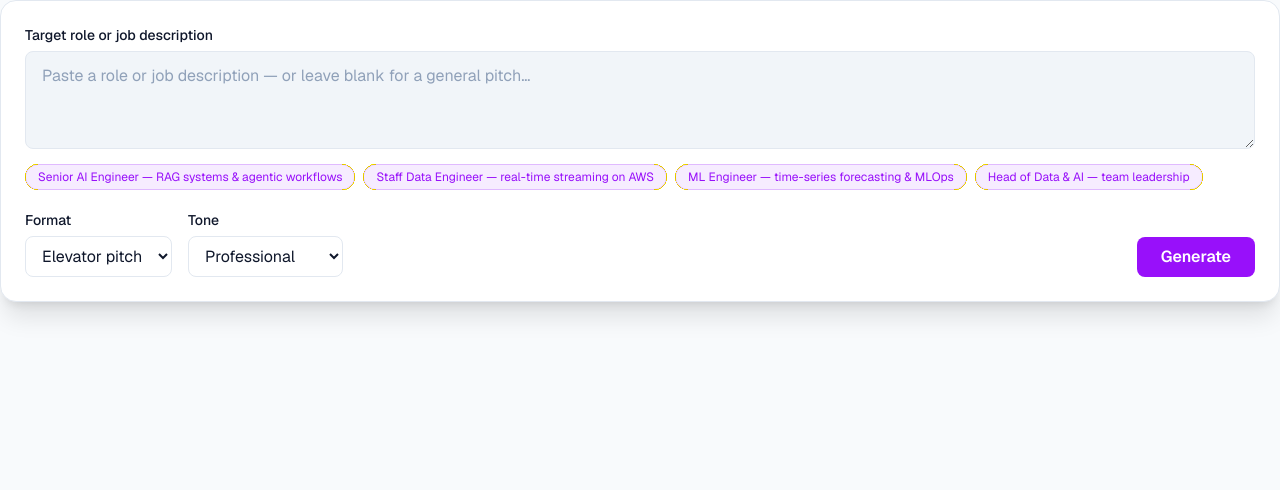
ContentGenerator (streaming) › copies the generated content to the clipboard
Click the button "Generate": (1196, 257) [1137, 237, 1255, 277]
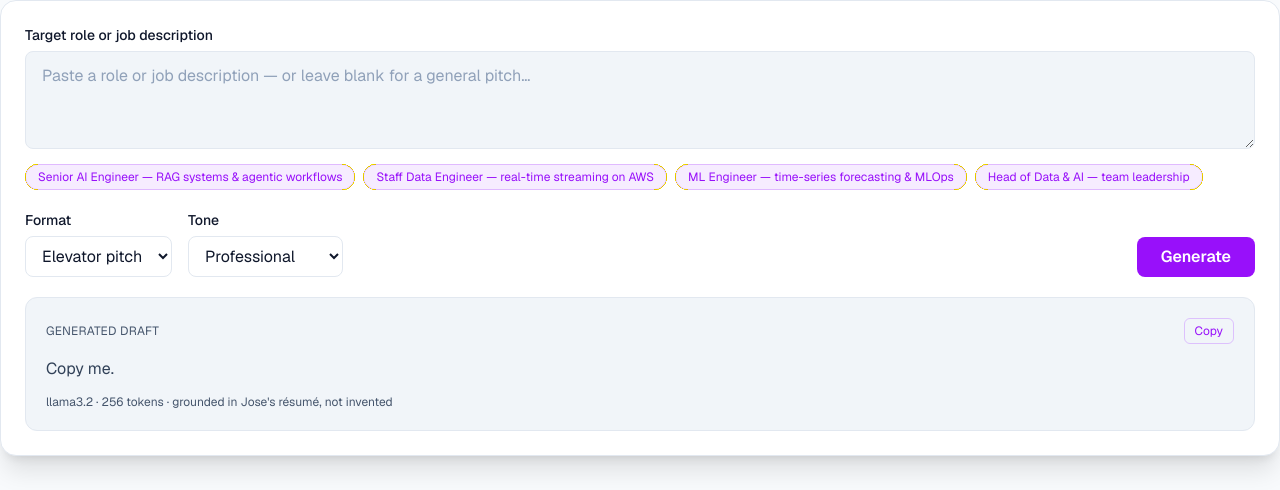
Check: the text "Copy me." is shown, box [46, 358, 114, 379]
Click the button "Copy": (1209, 331) [1184, 318, 1234, 344]
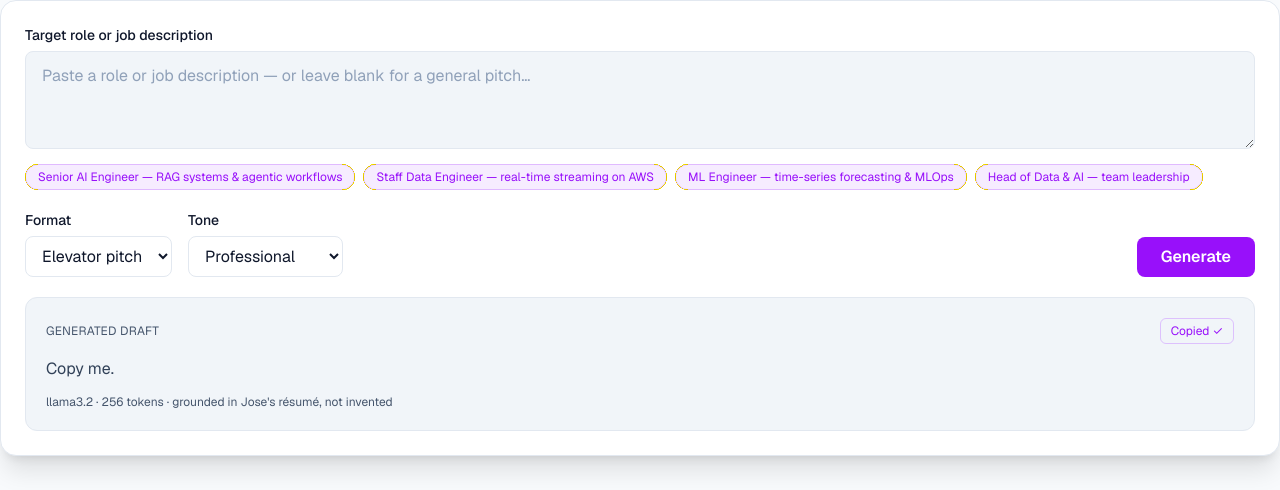
Check: the button "Copied ✓" is shown, box [1160, 318, 1234, 344]
